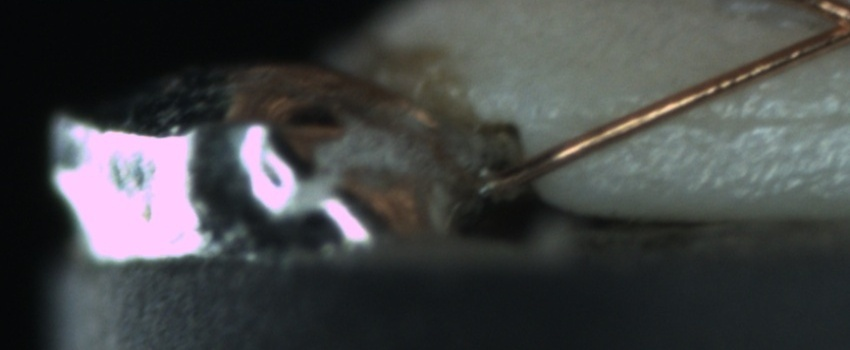DL: (633, 88, 850, 147)
